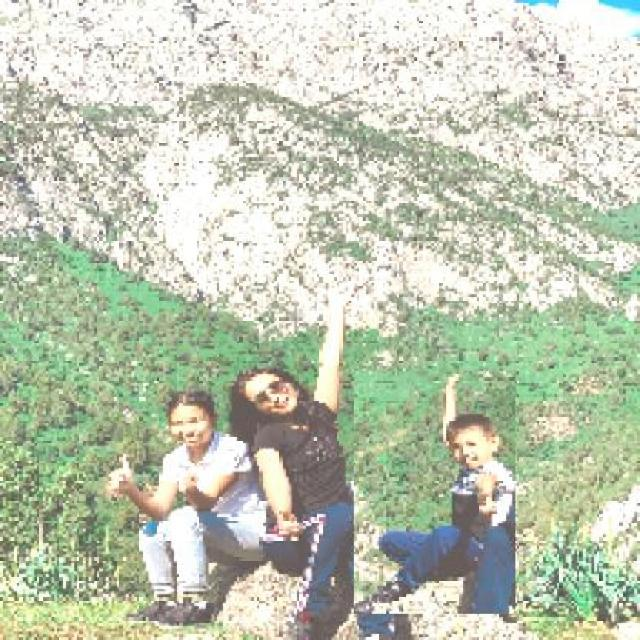child: (352, 371, 514, 615)
